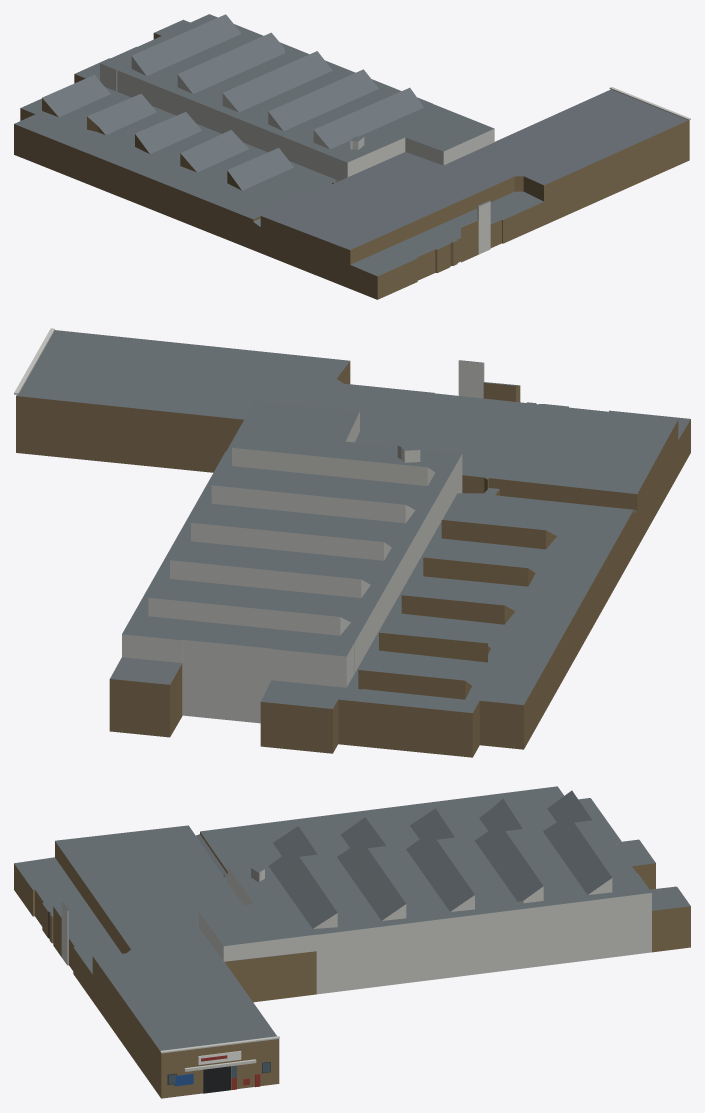
File: asterweg-23.glb
3 views of the same model, one above another, from view 1: azimuth 30°, elevation 25°; view 2: azimuth 150°, elevation 25°; view 3: azimuth 270°, elevation 25° (orthographic). The views are drawn at different scales.
Parts seen in each view (by area): view 1: asterweg-23; view 2: asterweg-23; view 3: asterweg-23.
Part boxes in pixels (x1,y1,x2,y2): asterweg-23: (14,14,690,299); asterweg-23: (14,328,690,757); asterweg-23: (14,786,690,1098).
Size of the model in its own units: 110 by 13.78 by 113.
